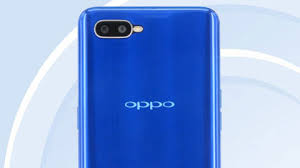oppo: (77, 5, 221, 168)
